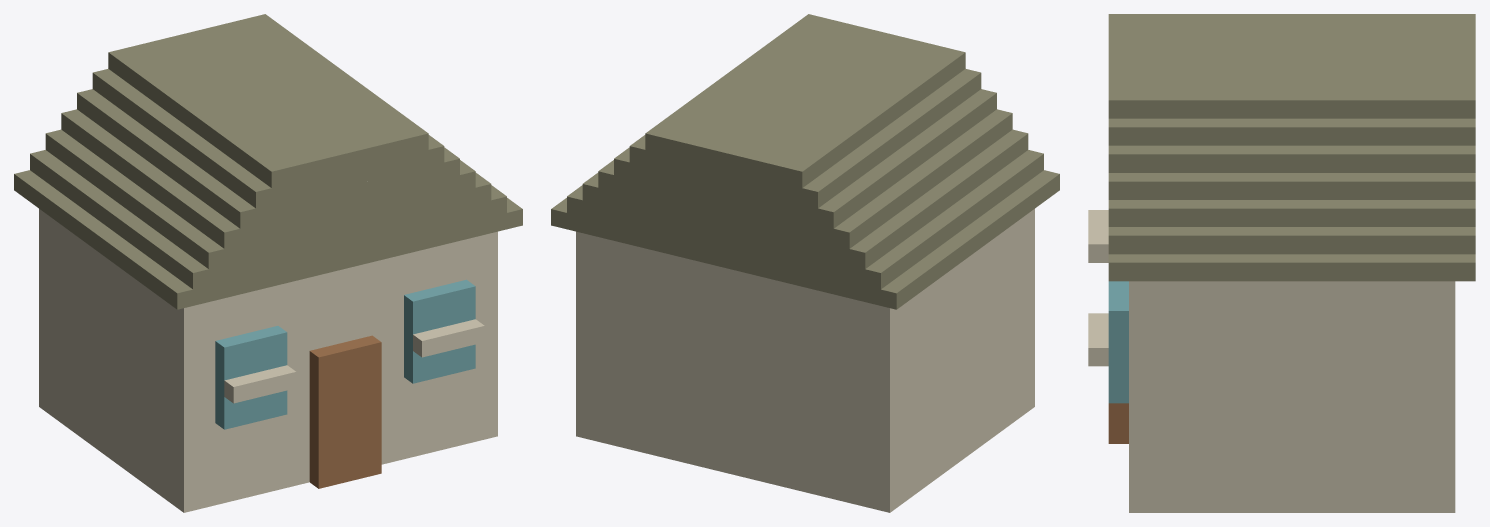
The model's file is civic-01.glb.
3 views of the same model, side by side, from view 1: azimuth 30°, elevation 25°; view 2: azimuth 150°, elevation 25°; view 3: azimuth 270°, elevation 25° (orthographic). The views are drawn at different scales.
Visible parts, largest first — view 1: City hall; view 2: City hall; view 3: City hall.
Part boxes in pixels (bbox=[...]): City hall: bbox=[14, 14, 522, 512]; City hall: bbox=[551, 14, 1059, 512]; City hall: bbox=[1088, 14, 1475, 512].
Bounding box in the file's own units: 1.76 × 1.6 × 1.52.
